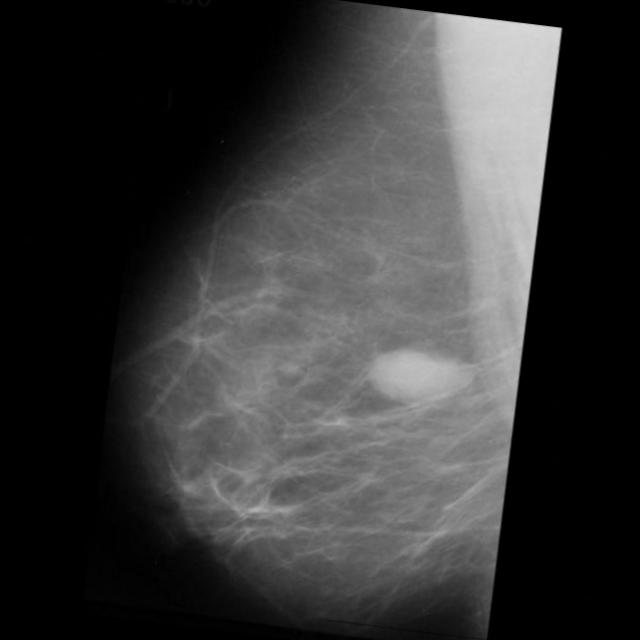CIRC: (360, 320, 470, 430)
